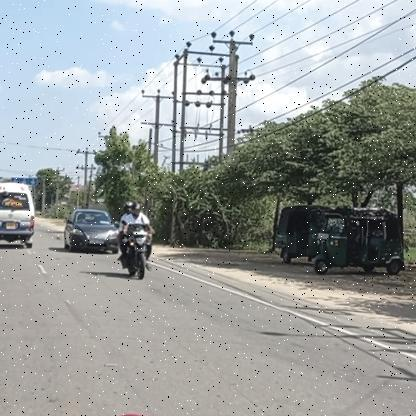motorcycle: (115, 226, 156, 283)
